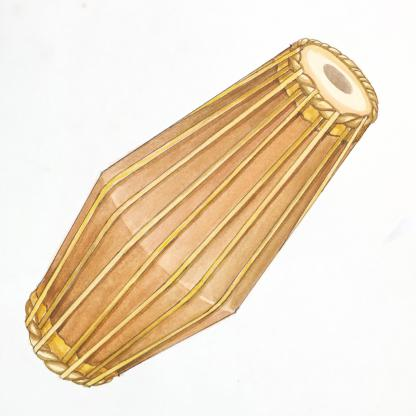Mridangam: (30, 44, 377, 385)
